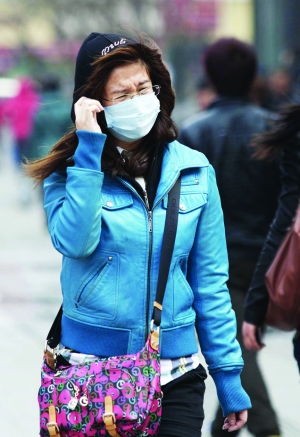face_mask: (107, 57, 160, 138)
